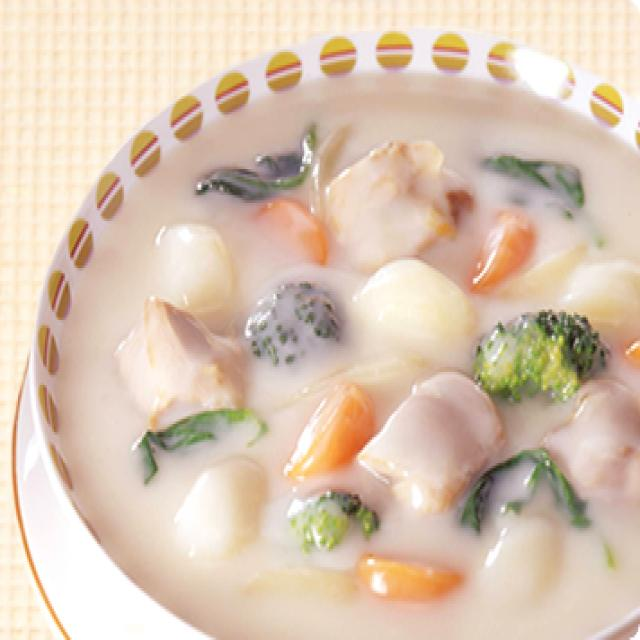汤锅炖物: (5, 15, 639, 640)
